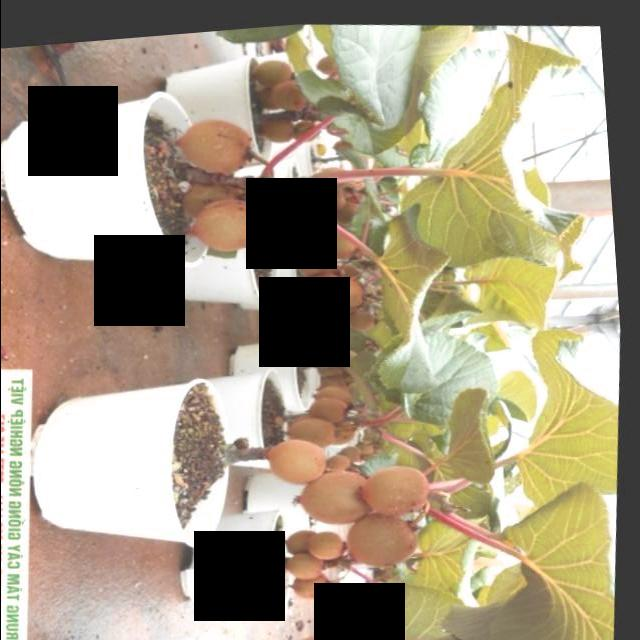kiwi: (183, 108, 265, 174), (300, 465, 378, 525), (199, 192, 273, 253), (361, 461, 435, 517), (351, 512, 422, 570), (269, 431, 335, 485), (251, 189, 318, 241), (291, 414, 343, 445), (327, 273, 372, 307), (323, 227, 370, 259), (310, 526, 352, 561), (263, 54, 304, 87), (294, 567, 336, 599), (286, 548, 327, 580), (280, 76, 316, 110), (287, 526, 323, 558), (315, 395, 354, 422), (323, 451, 360, 477), (318, 270, 351, 297), (305, 248, 338, 274), (271, 117, 303, 143), (291, 628, 357, 640), (323, 383, 356, 402)
